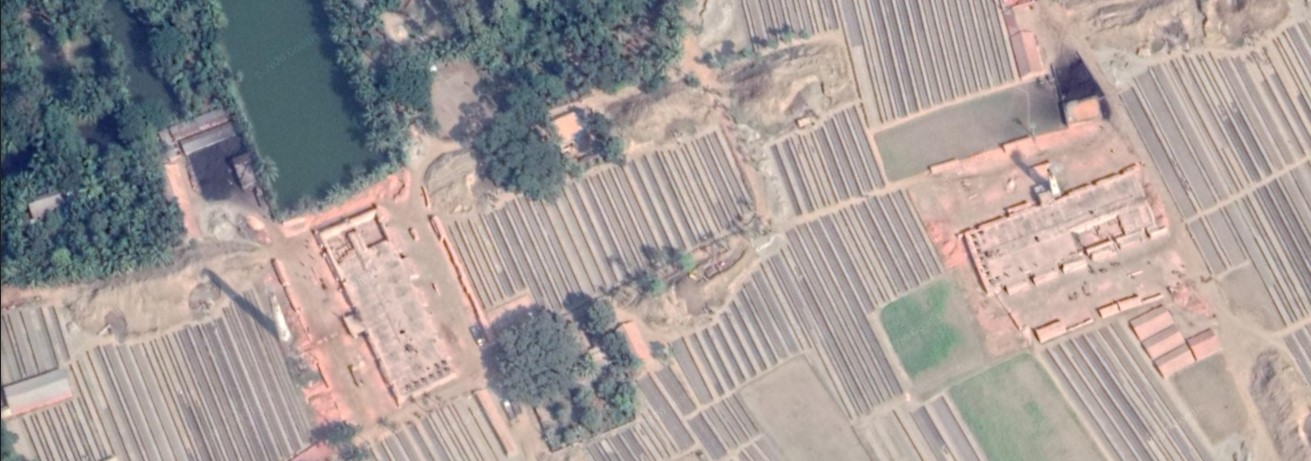kiln: (929, 148, 1186, 283), (229, 228, 430, 399)
